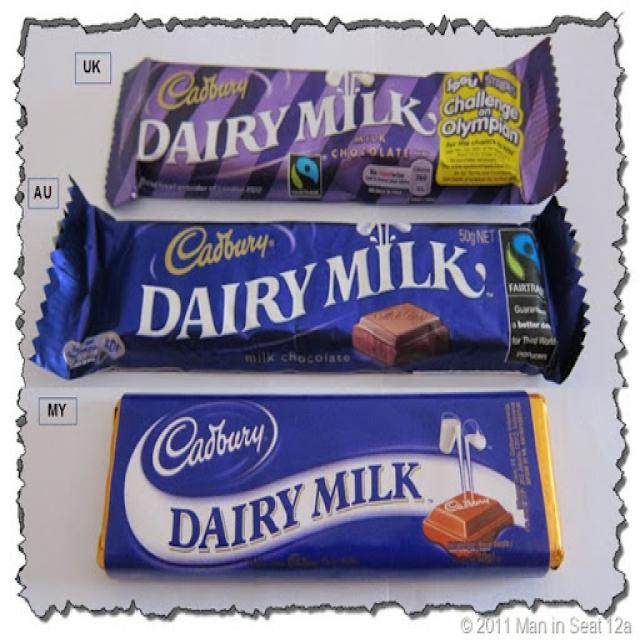cadbury: (123, 397, 556, 559), (77, 207, 572, 347), (127, 59, 558, 194)
